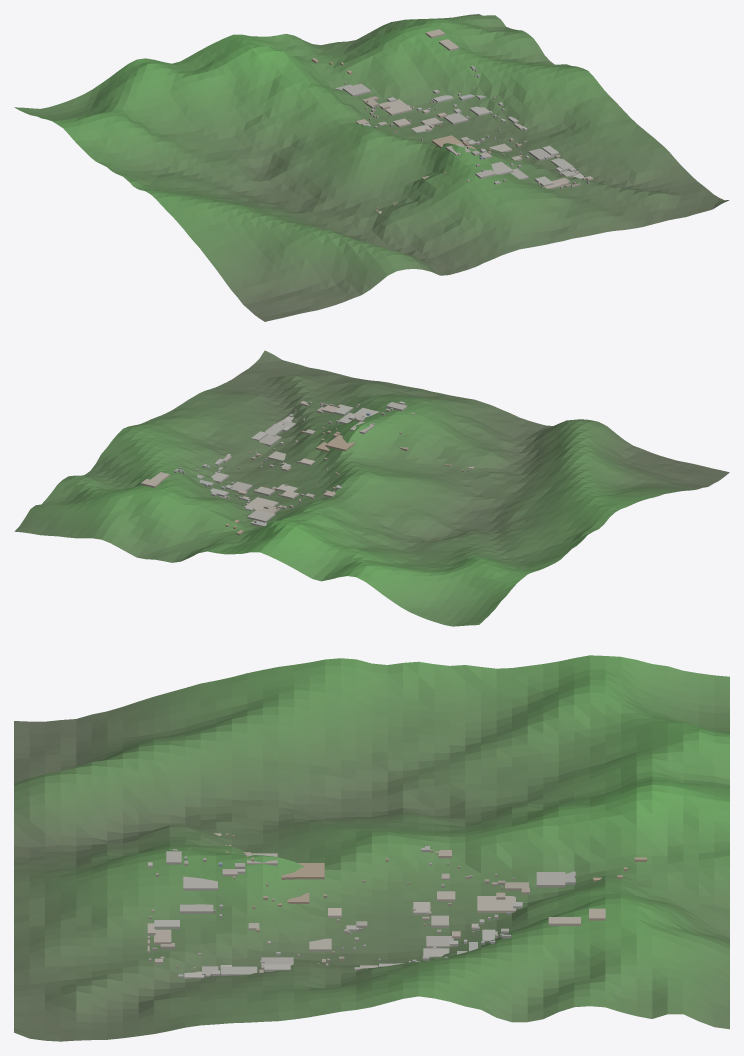
The model's file is modelo_pre_completo.glb.
3 views of the same model, one above another, from view 1: azimuth 30°, elevation 25°; view 2: azimuth 150°, elevation 25°; view 3: azimuth 270°, elevation 25° (orthographic). The views are drawn at different scales.
Parts seen in each view (by area): view 1: world; view 2: world; view 3: world.
Boxes of the visible parts, left/top/right/bottom form: world: left=14, top=14, right=729, bottom=321; world: left=14, top=350, right=729, bottom=626; world: left=14, top=655, right=729, bottom=1041.
Bounding box in the file's own units: 1522 × 186 × 1422.
